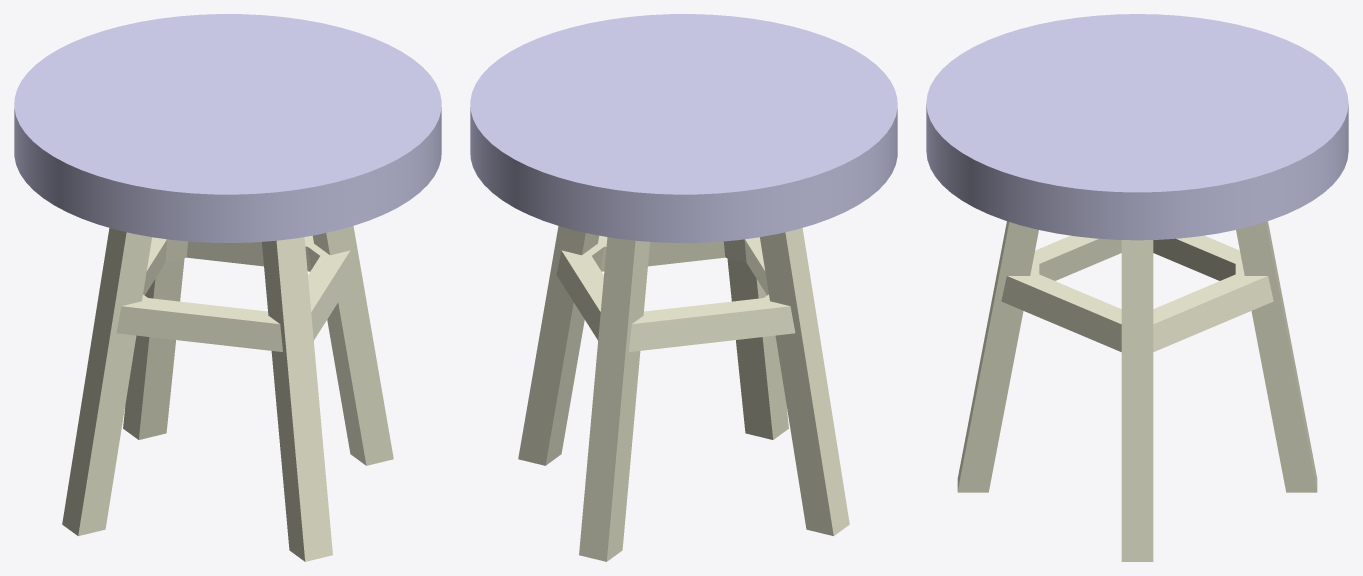
The model's file is chair1_purple.glb.
3 views of the same model, side by side, from view 1: azimuth 30°, elevation 25°; view 2: azimuth 150°, elevation 25°; view 3: azimuth 270°, elevation 25° (orthographic).
Visible parts, largest first — view 1: Cylinder002; view 2: Cylinder002; view 3: Cylinder002.
Boxes of the visible parts, x1=… form: Cylinder002: x1=14, y1=14, x2=441, y2=561; Cylinder002: x1=470, y1=14, x2=897, y2=561; Cylinder002: x1=926, y1=14, x2=1348, y2=561.
Bounding box in the file's own units: 0.08 × 0.08 × 0.08.
1 material, 1 textured.
